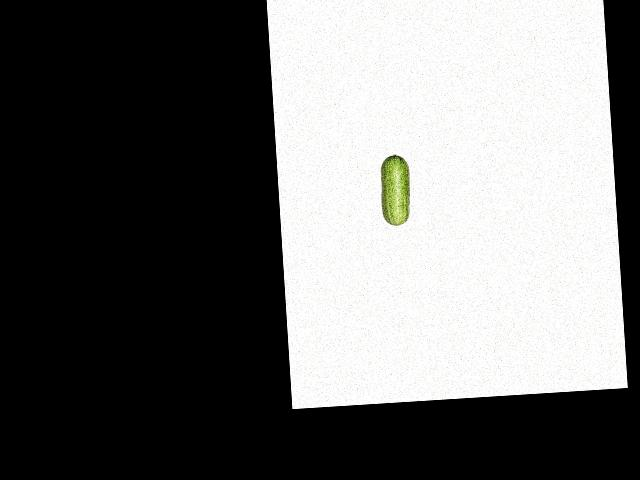cucumber: (378, 153, 412, 226)
